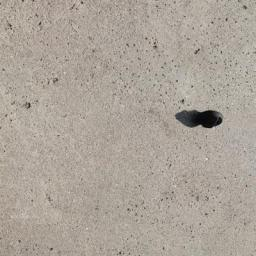FOD: (174, 107, 228, 132)
